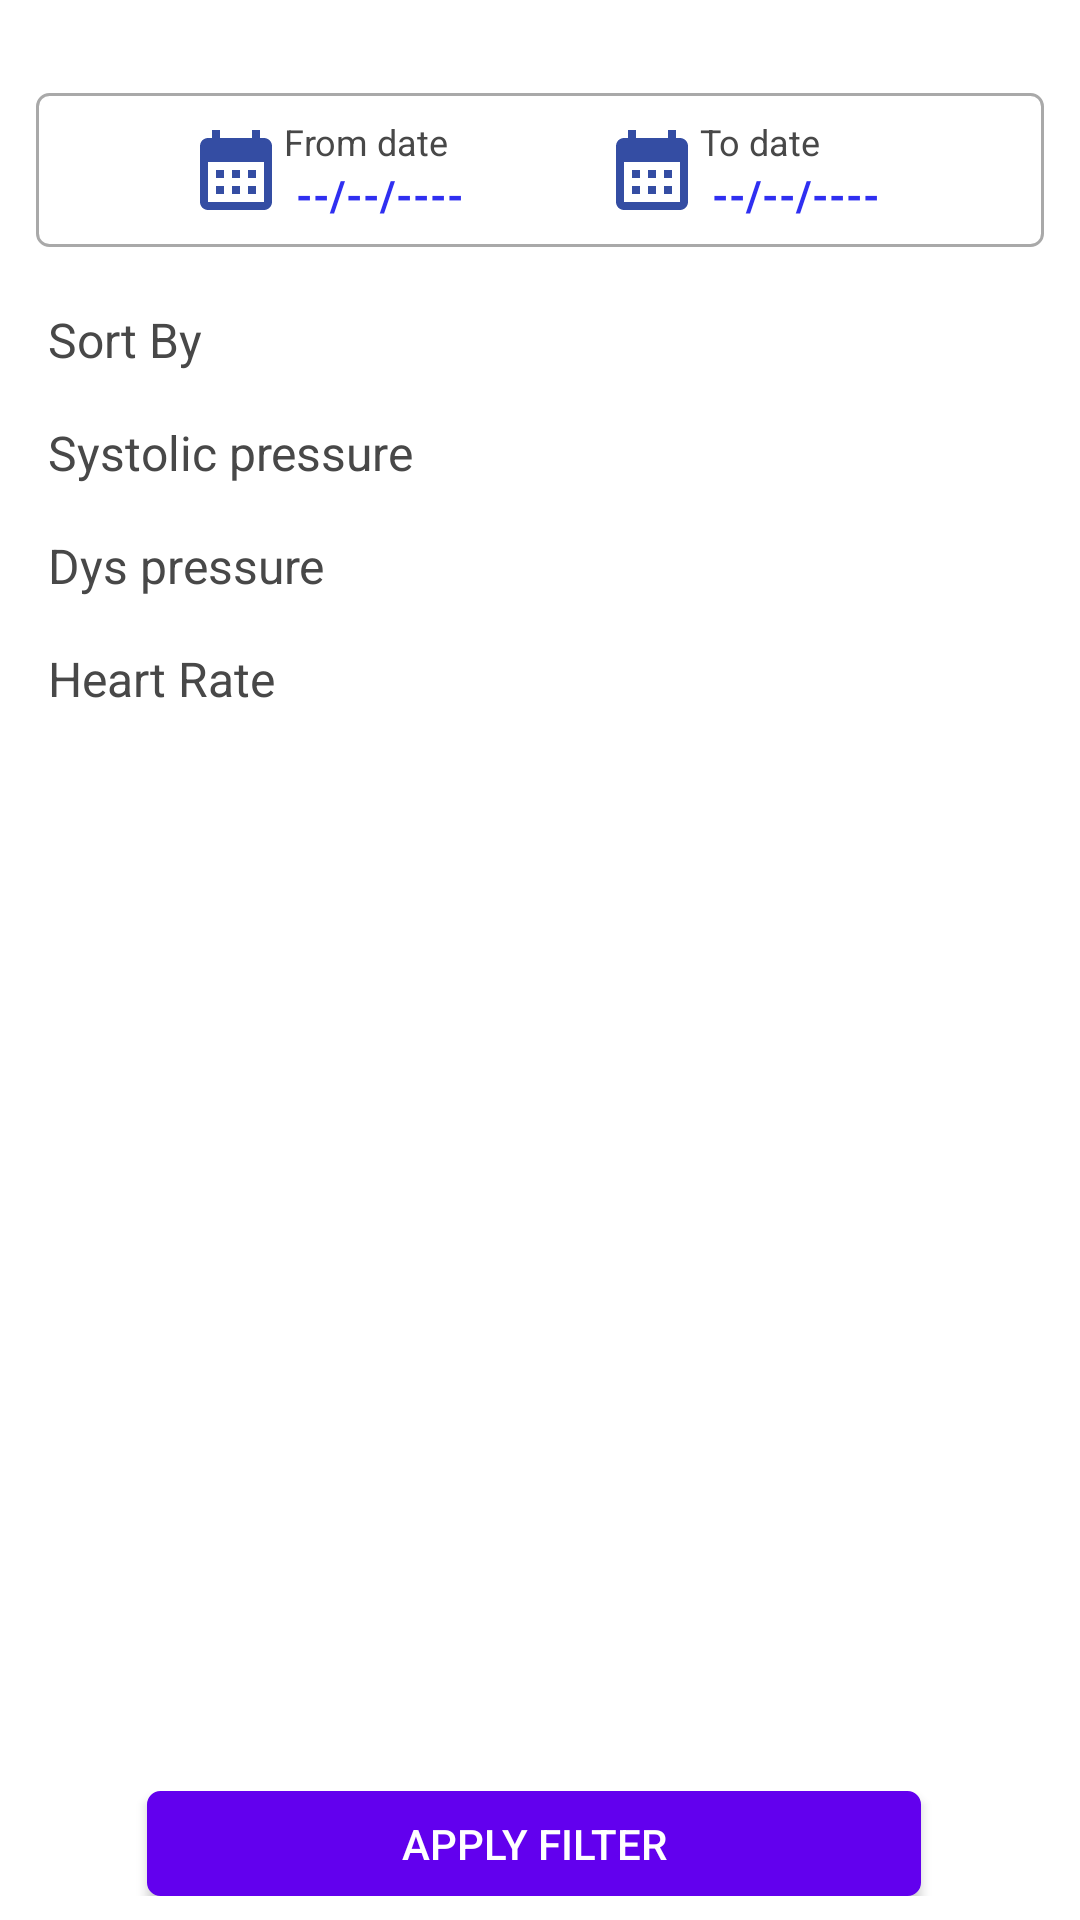

Icons on this 1080*1920 Android screen, each with the point to tap as (x,y):
Calendar icon: (236,170), (652,170)
